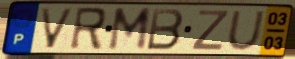B: (145, 7, 186, 52)
M: (105, 6, 153, 53)
R: (67, 6, 108, 52)
U: (225, 9, 267, 52)
V: (39, 7, 76, 50)
Z: (190, 8, 231, 51)
